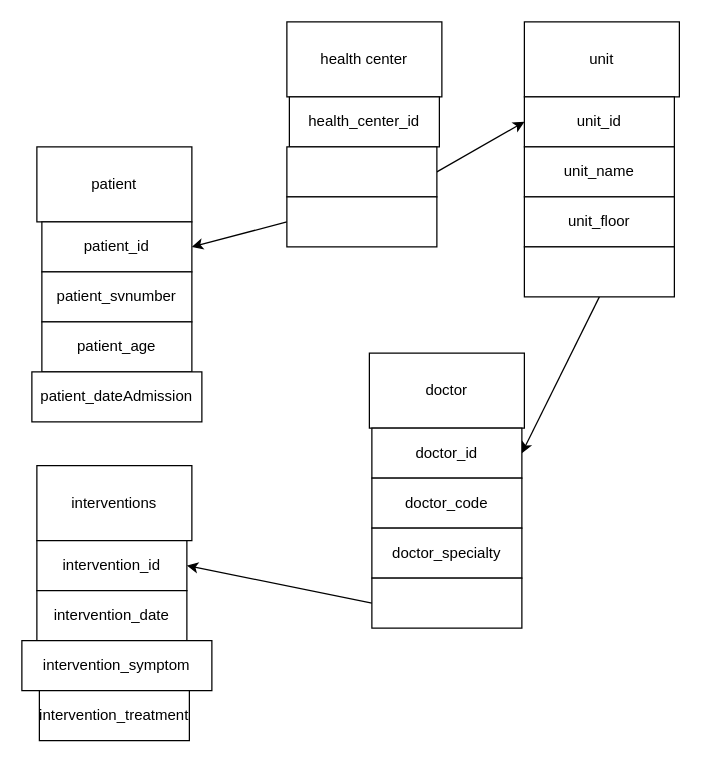
The diagram is 701 pixels wide and 763 high, and some of its shapes have lost their labels. Here are the shapes that lost their labels. From the top down, the centre of each, then its label:
At pixel 361 171: "fk_unit_id".
At pixel 361 221: "fk_patient_id".
At pixel 598 271: "fk_doctor_id".
At pixel 446 602: "fk_intervention_id".
